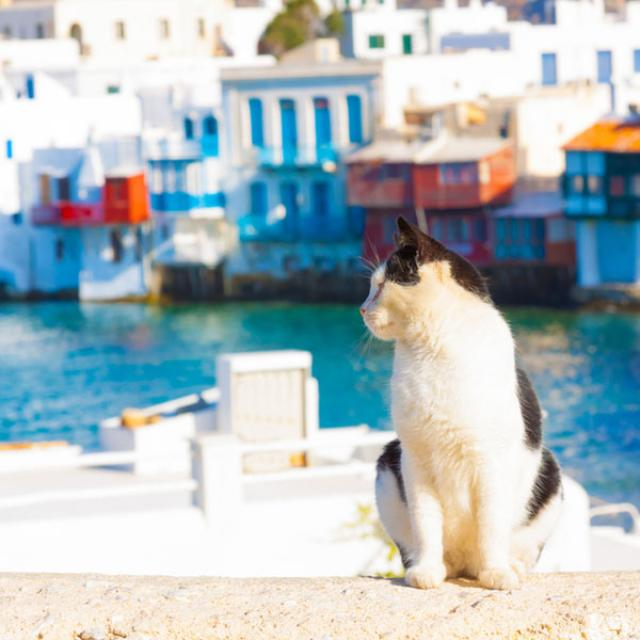cat: (361, 218, 560, 589)
